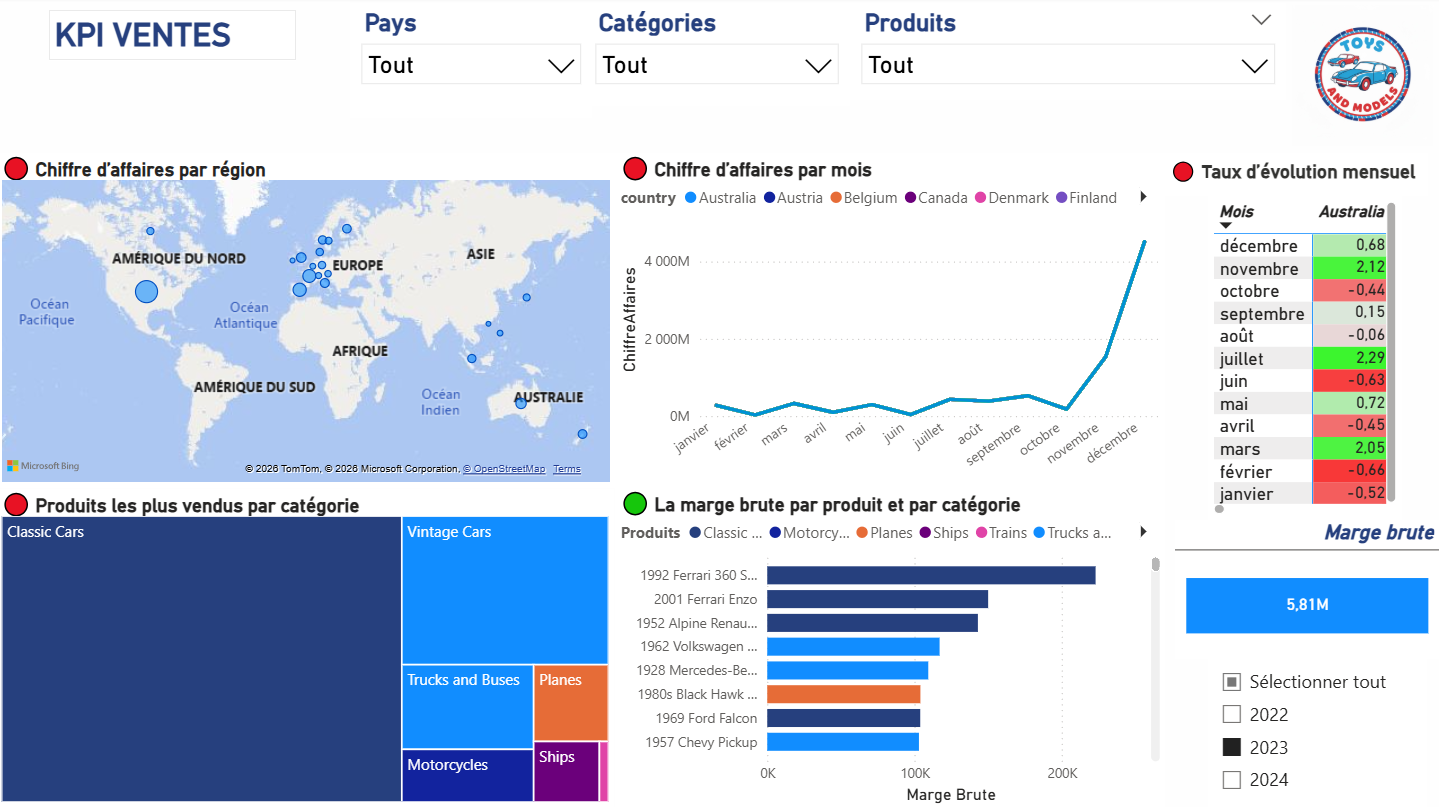

Layout of this report page (visuals, bound fields, positions):
{"tool":"powerbi","page":{"name":"Ventes","canvas":[1280,720],"ordinal":1},"visuals":[{"type":"lineChart","title":"🔴 Chiffre d’affaires par mois","fields":{"Category":["DIM_DATES.Dates_possibles.Variation.Hiérarchie de dates.Mois"],"Y":["FACT_SALES.ChiffreAffaires"],"Series":["CA_mois_regions.country"]},"box":[548.5,138.7,488.3,300.6],"z":0},{"type":"map","title":"🔴 Chiffre d’affaires par région ","fields":{"Category":["CA_mois_regions.country"],"Size":["Sum(CA_mois_regions.chiffre_aff)"]},"box":[0,138.1,548.6,297.3],"z":1000},{"type":"slicer","fields":{"Values":["CA_mois_regions.country"]},"box":[314.2,5.5,215.4,101.5],"z":2000},{"type":"textbox","box":[47.3,11.2,218.9,44.8],"z":3000},{"type":"pivotTable","fields":{"Rows":["DIM_DATES.Dates_possibles.Variation.Hiérarchie de dates.Mois"],"Columns":["CA_mois_regions.country"],"Values":["CA_mois_regions.Taux Évolution Mensuel"]},"box":[1074.9,176.7,171.8,287.1],"z":4000},{"type":"treemap","title":"🔴 Produits les plus vendus par catégorie","fields":{"Values":["FACT_SALES.ChiffreAffaires"],"Group":["DIM_PRODUCTS.productLine"]},"box":[0,436.2,548,282.4],"z":5000},{"type":"barChart","title":"🟢 La marge brute par produit et par catégorie","fields":{"Category":["DIM_PRODUCTS.productName"],"Y":["FACT_SALES.Marge_brut"],"Series":["DIM_PRODUCTS.productLine"]},"box":[548.5,435.6,488.3,284.7],"z":6000},{"type":"image","box":[1144.7,0,135.3,138.3],"z":7000},{"type":"textbox","box":[1036.8,138.7,233.1,38],"z":8000},{"type":"slicer","fields":{"Values":["DIM_PRODUCTS.productLine"]},"box":[521.4,5.5,236,90.6],"z":9000},{"type":"slicer","fields":{"Values":["DIM_PRODUCTS.productName"]},"box":[757.5,5.5,387,86.4],"z":10000},{"type":"funnel","title":"Marge brute","fields":{"Y":["FACT_SALES.Marge_brut"]},"box":[1045.6,463.8,234.6,123.5],"z":11000},{"type":"slicer","fields":{"Values":["DIM_DATES.year"]},"box":[1074.8,587.1,194.1,131.9],"z":12000}]}

Visuals, with their boxes in screenshot pixels (x1, y1, x2, y2), scaled from the page's 1280x720 canvas onto the 1439x807 screenshot:
"🔴 Chiffre d’affaires par mois" lineChart: x1=617 y1=155 x2=1166 y2=492
"🔴 Chiffre d’affaires par région " map: x1=0 y1=155 x2=617 y2=488
slicer - CA_mois_regions.country: x1=353 y1=6 x2=595 y2=120
textbox: x1=53 y1=13 x2=299 y2=63
pivotTable - DIM_DATES.Dates_possibles.Variation.Hiérarchie de dates.Mois x CA_mois_regions.country: x1=1208 y1=198 x2=1402 y2=520
"🔴 Produits les plus vendus par catégorie" treemap: x1=0 y1=489 x2=616 y2=805
"🟢 La marge brute par produit et par catégorie" barChart: x1=617 y1=488 x2=1166 y2=806
image: x1=1287 y1=0 x2=1438 y2=155
textbox: x1=1166 y1=155 x2=1428 y2=198
slicer - DIM_PRODUCTS.productLine: x1=586 y1=6 x2=851 y2=108
slicer - DIM_PRODUCTS.productName: x1=852 y1=6 x2=1287 y2=103
"Marge brute" funnel: x1=1175 y1=520 x2=1438 y2=658
slicer - DIM_DATES.year: x1=1208 y1=658 x2=1427 y2=806
